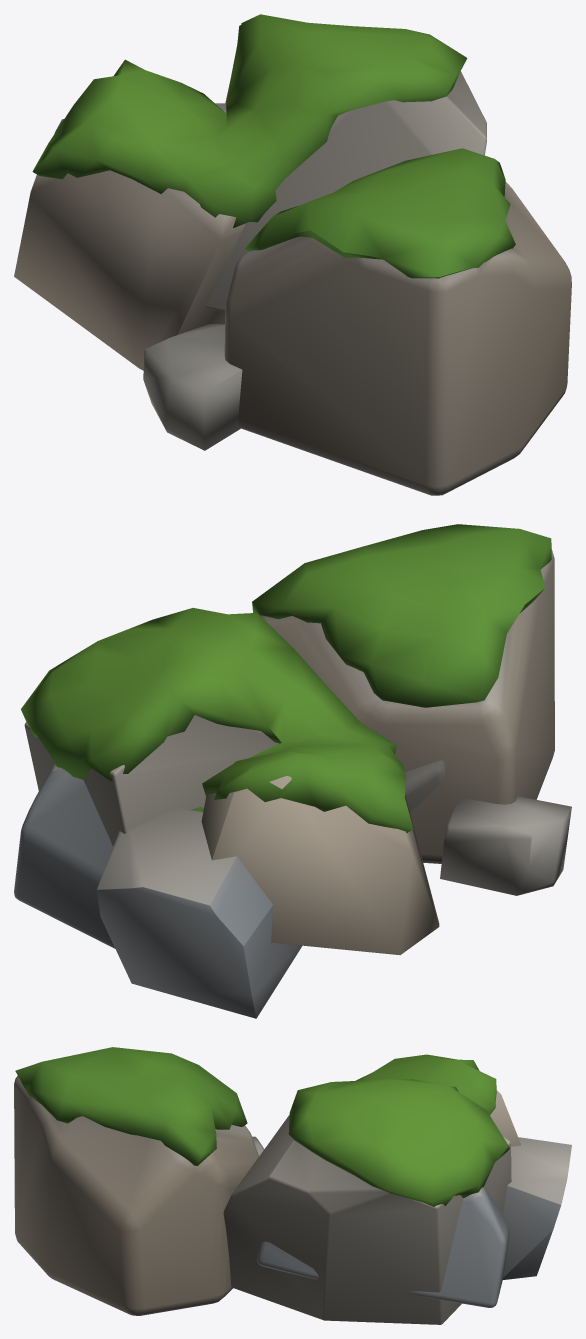
Rendered from glade_rubble_c.glb.
The picture shows the model from 3 angles, top to bottom: view 1: azimuth 30°, elevation 25°; view 2: azimuth 150°, elevation 25°; view 3: azimuth 270°, elevation 25°; orthographic projection. The views are drawn at different scales.
Visible parts, largest first — view 1: glade_rubble_c, moss; view 2: glade_rubble_c, moss; view 3: glade_rubble_c, moss.
Part boxes in pixels (<box>): glade_rubble_c: <box>14,71,571,495</box>; moss: <box>32,14,515,278</box>; glade_rubble_c: <box>14,549,571,1018</box>; moss: <box>21,524,551,833</box>; glade_rubble_c: <box>14,1076,571,1324</box>; moss: <box>15,1047,509,1206</box>.
Size of the model in its own units: 3.14 by 1.95 by 4.83.
